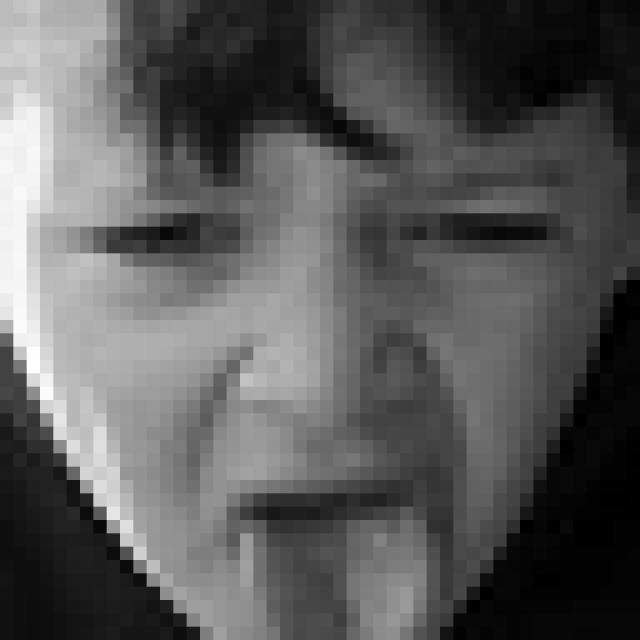disgust: (70, 161, 569, 640)
